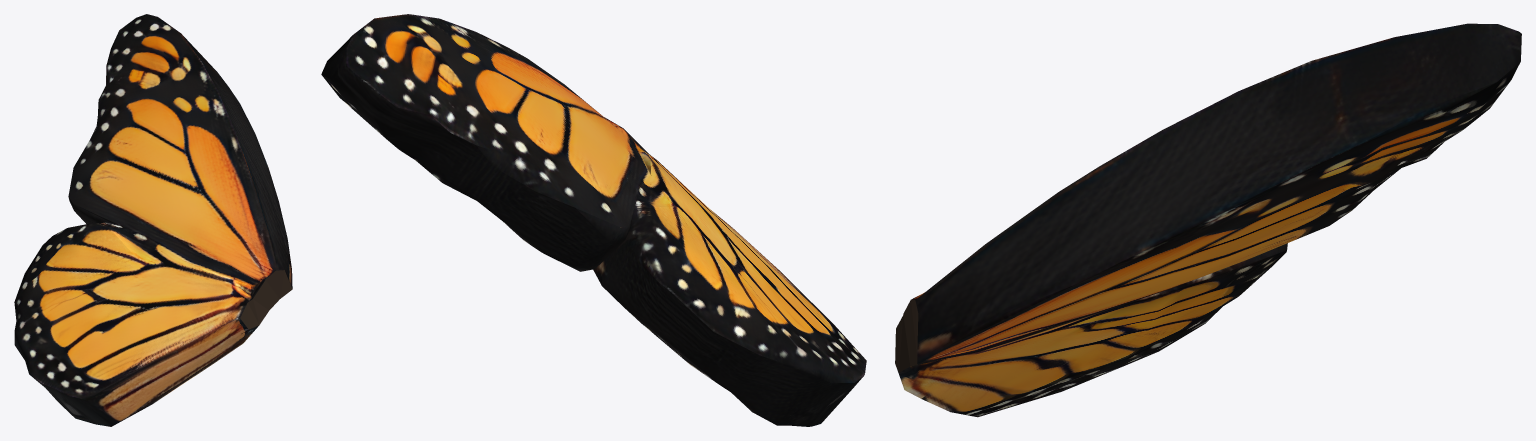
The model's file is ala-izquierda.obj.
The picture shows the model from 3 angles, left to right: view 1: azimuth 30°, elevation 25°; view 2: azimuth 150°, elevation 25°; view 3: azimuth 270°, elevation 25°; orthographic projection. The views are drawn at different scales.
Parts seen in each view (by area): view 1: model.046; view 2: model.046; view 3: model.046.
Part boxes in pixels (x1=…): model.046: x1=14, y1=14, x2=292, y2=426; model.046: x1=321, y1=14, x2=866, y2=426; model.046: x1=895, y1=23, x2=1521, y2=417.
Size of the model in its own units: 0.0248 by 0.0255 by 0.026.
1 material, 1 textured.
